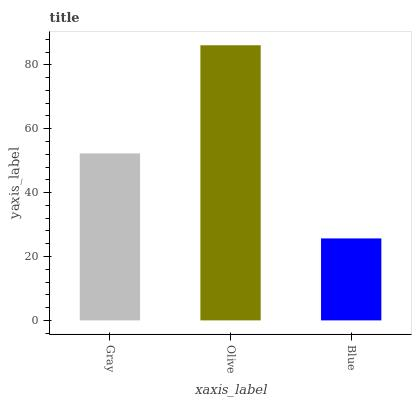axis: (41, 36, 55, 330)
label: (222, 342, 240, 380), (102, 342, 120, 378), (342, 343, 360, 378)
rectangle: (201, 45, 261, 320), (81, 153, 140, 320), (322, 239, 382, 322)
title: (42, 8, 85, 31)
